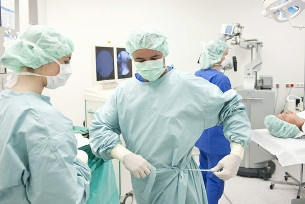Mask: (36, 52, 73, 89)
